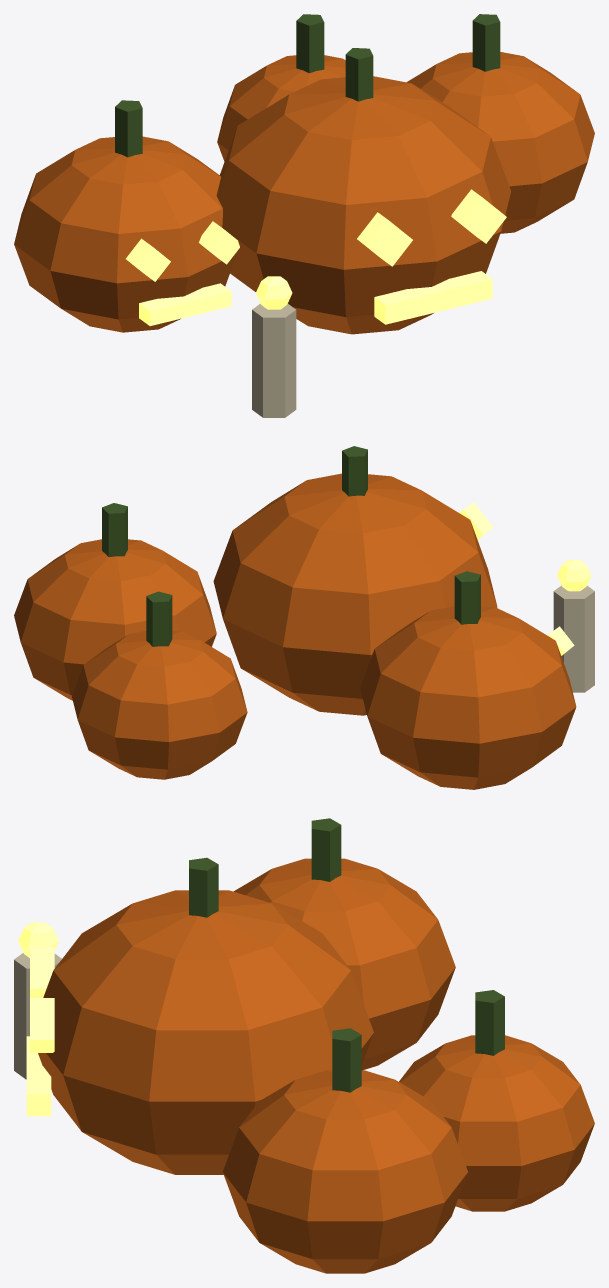
Rendered from prop-pumpkin-patch.glb.
The picture shows the model from 3 angles, top to bottom: view 1: azimuth 30°, elevation 25°; view 2: azimuth 150°, elevation 25°; view 3: azimuth 270°, elevation 25°; orthographic projection. The views are drawn at different scales.
Parts seen in each view (by area): view 1: cw_paint, cw_glow; view 2: cw_paint, cw_glow; view 3: cw_paint, cw_glow.
Part boxes in pixels (<box>): cw_paint: <box>14,14,594,417</box>; cw_glow: <box>126,189,506,325</box>; cw_paint: <box>14,446,594,789</box>; cw_glow: <box>459,502,591,655</box>; cw_paint: <box>14,818,594,1273</box>; cw_glow: <box>18,922,58,1116</box>.
Size of the model in its own units: 1.74 by 0.79 by 1.42.
